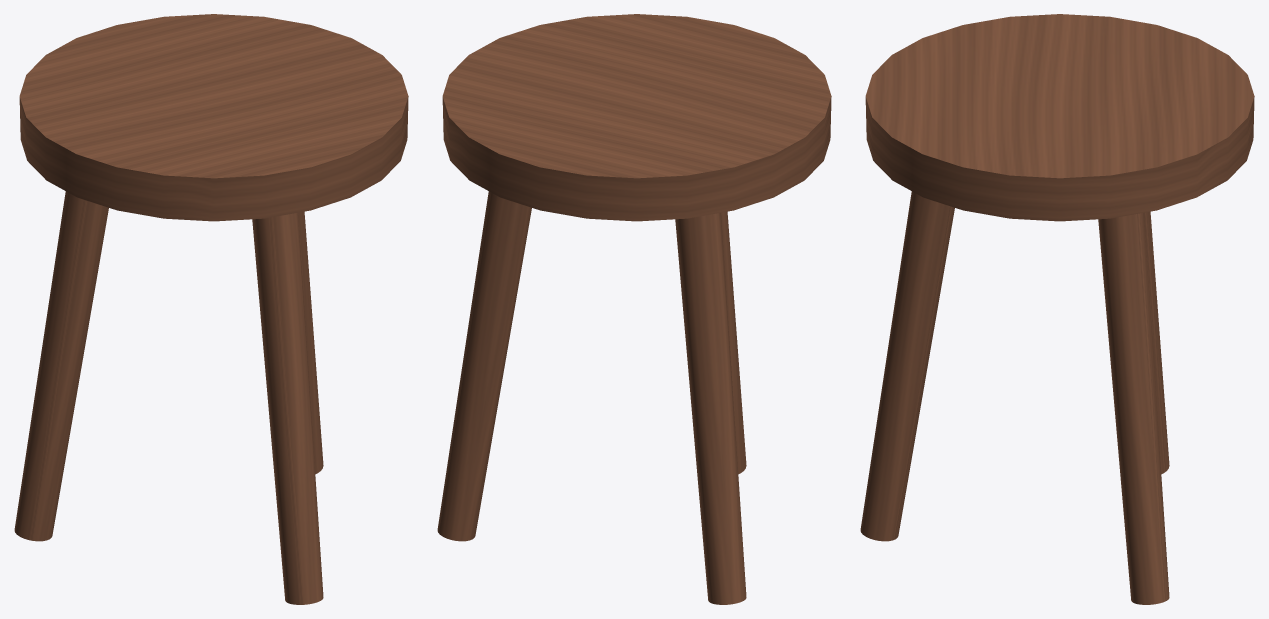
Rendered from reference.glb.
3 views of the same model, side by side, from view 1: azimuth 30°, elevation 25°; view 2: azimuth 150°, elevation 25°; view 3: azimuth 270°, elevation 25° (orthographic).
Parts seen in each view (by area): view 1: Round seat, Splayed leg (×3); view 2: Round seat, Splayed leg (×3); view 3: Round seat, Splayed leg (×3).
Boxes of the visible parts, left/top/right/bottom form: Round seat: left=19, top=14, right=408, bottom=221; Splayed leg (×3): left=14, top=191, right=323, bottom=604; Round seat: left=442, top=14, right=831, bottom=221; Splayed leg (×3): left=437, top=191, right=746, bottom=604; Round seat: left=865, top=14, right=1254, bottom=221; Splayed leg (×3): left=860, top=191, right=1169, bottom=604.
Bounding box in the file's own units: 0.364 × 0.4536 × 0.3688.
1 material, 1 textured.
